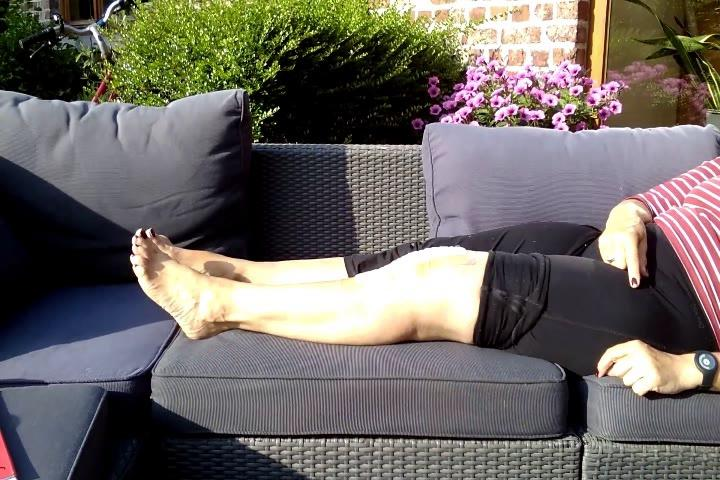lowerbody: (128, 216, 711, 387)
